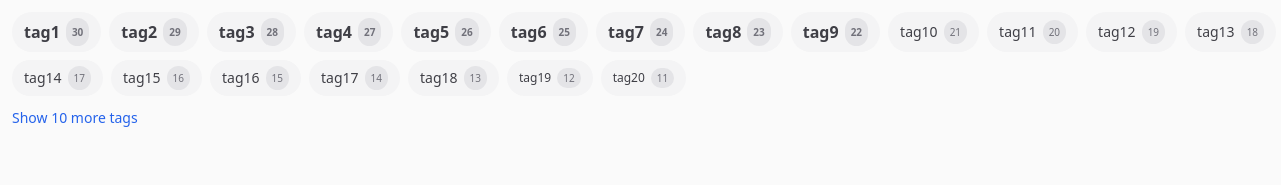
Scenario: TagCloud › Pagination › collapses back when 'Show less' is clicked
Click the button "Show 10 more tags" at (75, 118), box x1=12 y1=108 x2=138 y2=128
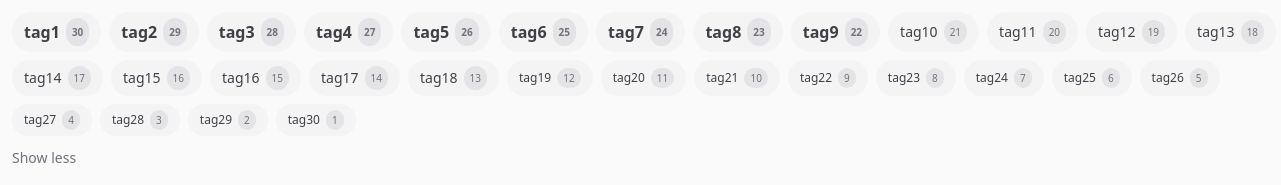
Click the button "Show less" at (44, 158), box x1=12 y1=148 x2=76 y2=168
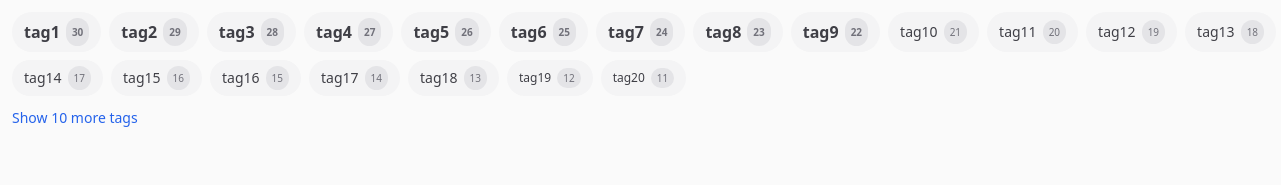
Expected: the button "tag21" is gone
